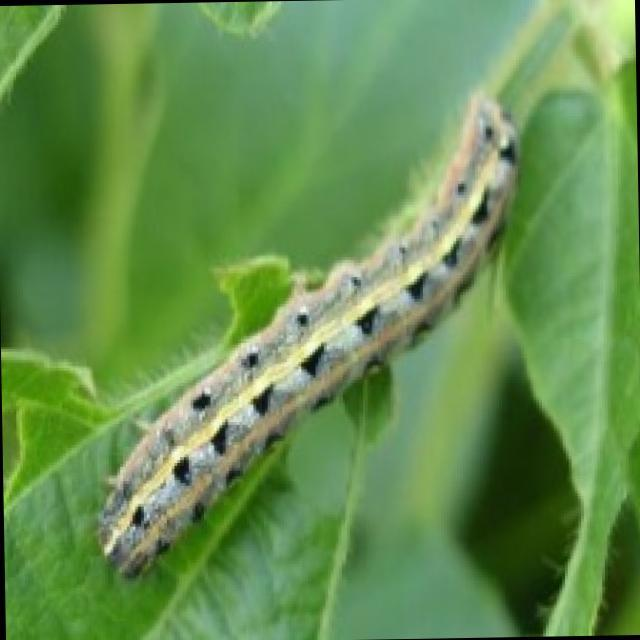Plaga: (77, 75, 531, 586)
